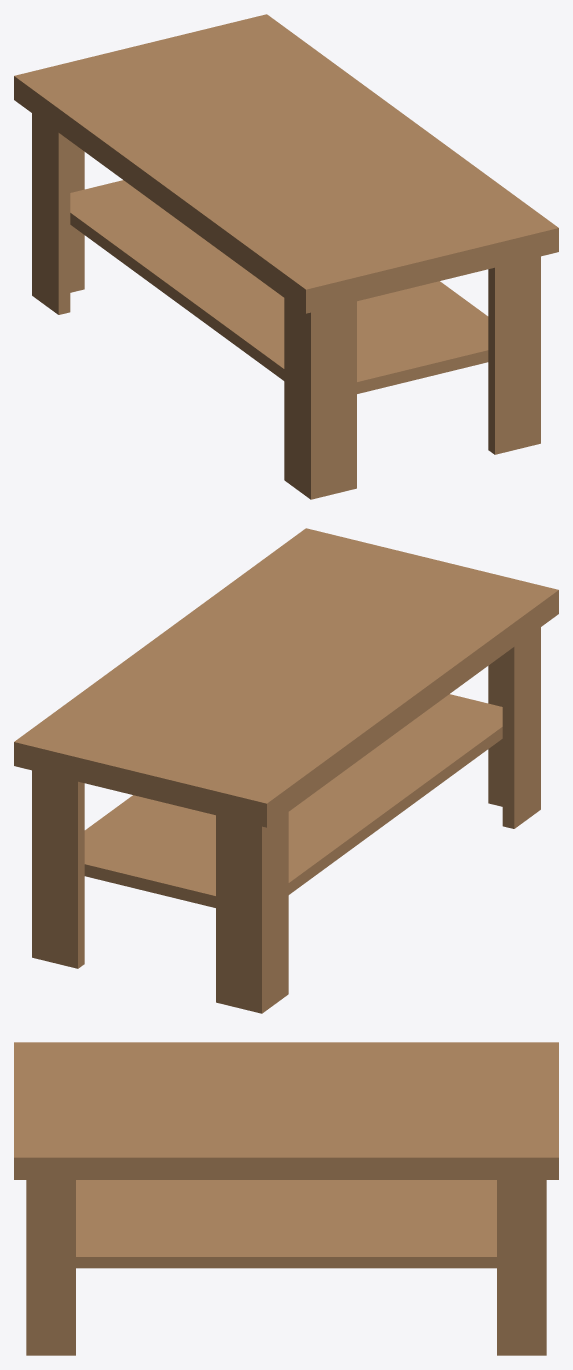
File: coffeeTable.fbx
The picture shows the model from 3 angles, top to bottom: view 1: azimuth 30°, elevation 25°; view 2: azimuth 150°, elevation 25°; view 3: azimuth 270°, elevation 25°; orthographic projection. The views are drawn at different scales.
Visible parts, largest first — view 1: coffee_table:polySurface1; view 2: coffee_table:polySurface1; view 3: coffee_table:polySurface1.
Part boxes in pixels (box(x1,y1,x2,y2)): coffee_table:polySurface1: box(14, 14, 558, 499); coffee_table:polySurface1: box(14, 528, 558, 1013); coffee_table:polySurface1: box(14, 1042, 558, 1355).
Size of the model in its own units: 22 by 18.1 by 44.
